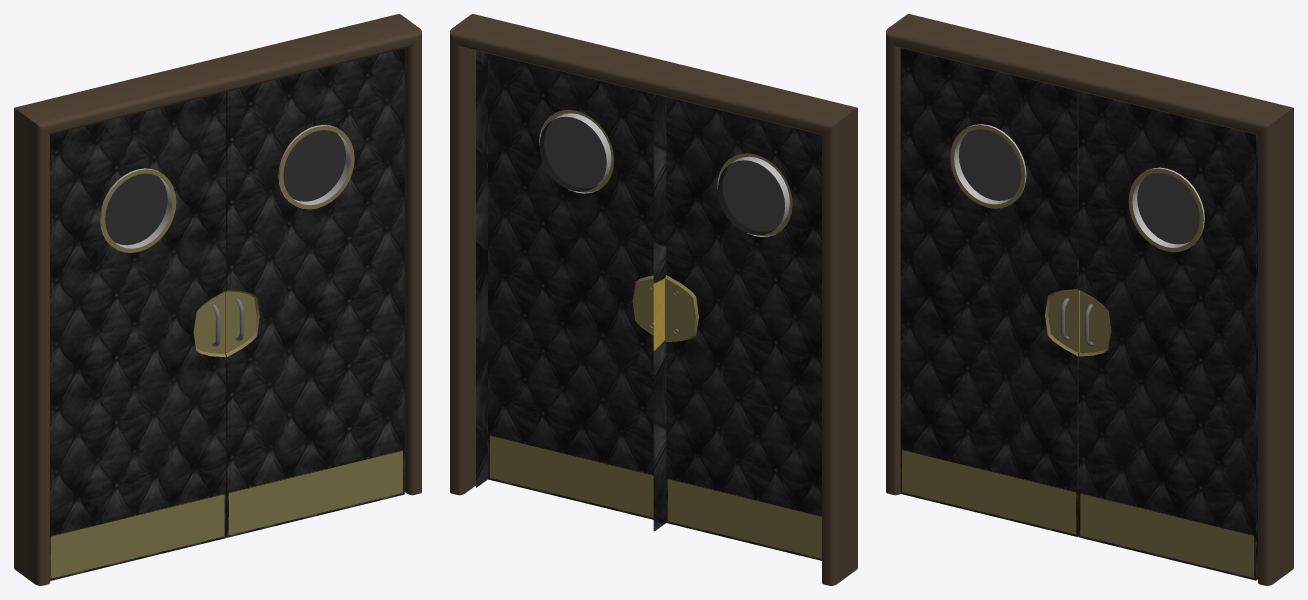
Rendered from Theater_Doors.fbx.
3 renders of one model, left to right at view 1: azimuth 30°, elevation 25°; view 2: azimuth 150°, elevation 25°; view 3: azimuth 330°, elevation 25°, orthographic.
Parts seen in each view (by area): view 1: Door_low, uploads_files_4067737_oldTheatre:pCube17; view 2: Door_low, uploads_files_4067737_oldTheatre:pCube17; view 3: Door_low, uploads_files_4067737_oldTheatre:pCube17.
Boxes of the visible parts, bbox=[...] form: Door_low: bbox=[50, 48, 404, 580]; uploads_files_4067737_oldTheatre:pCube17: bbox=[14, 14, 421, 585]; Door_low: bbox=[476, 50, 821, 560]; uploads_files_4067737_oldTheatre:pCube17: bbox=[450, 14, 857, 585]; Door_low: bbox=[900, 48, 1257, 580]; uploads_files_4067737_oldTheatre:pCube17: bbox=[886, 14, 1293, 585].
Size of the model in its own units: 8.4 by 9.6 by 1.05.
